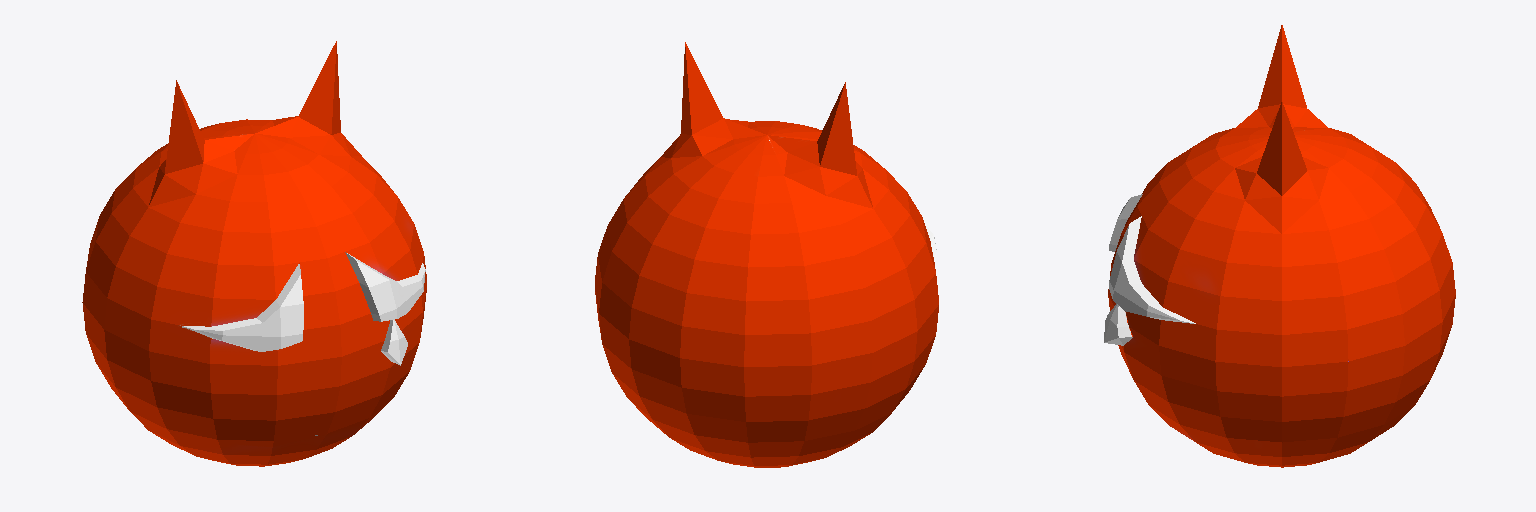
3 renders of one model, left to right at view 1: azimuth 30°, elevation 25°; view 2: azimuth 150°, elevation 25°; view 3: azimuth 270°, elevation 25°, orthographic.
Parts seen in each view (by area): view 1: 球; view 2: 球; view 3: 球.
Part boxes in pixels (x1,y1,x2,y2): 球: (82,41,426,466); 球: (595,42,938,467); 球: (1104,25,1455,467).
Bounding box in the file's own units: 2 × 2.48 × 2.02.
1 materials, 1 textured.